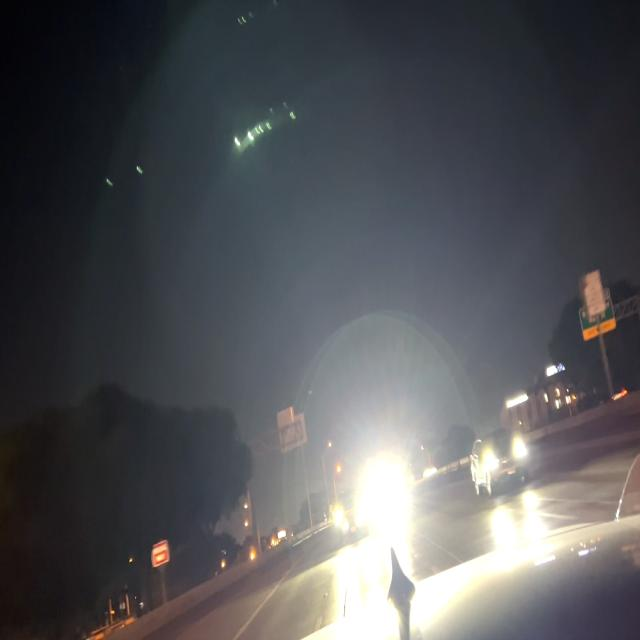back-of-sign: (279, 407, 307, 459)
